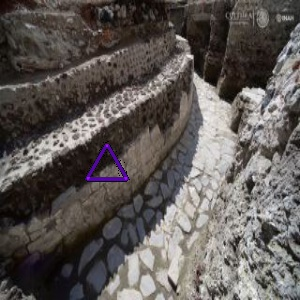triangle: (83, 139, 131, 186)
